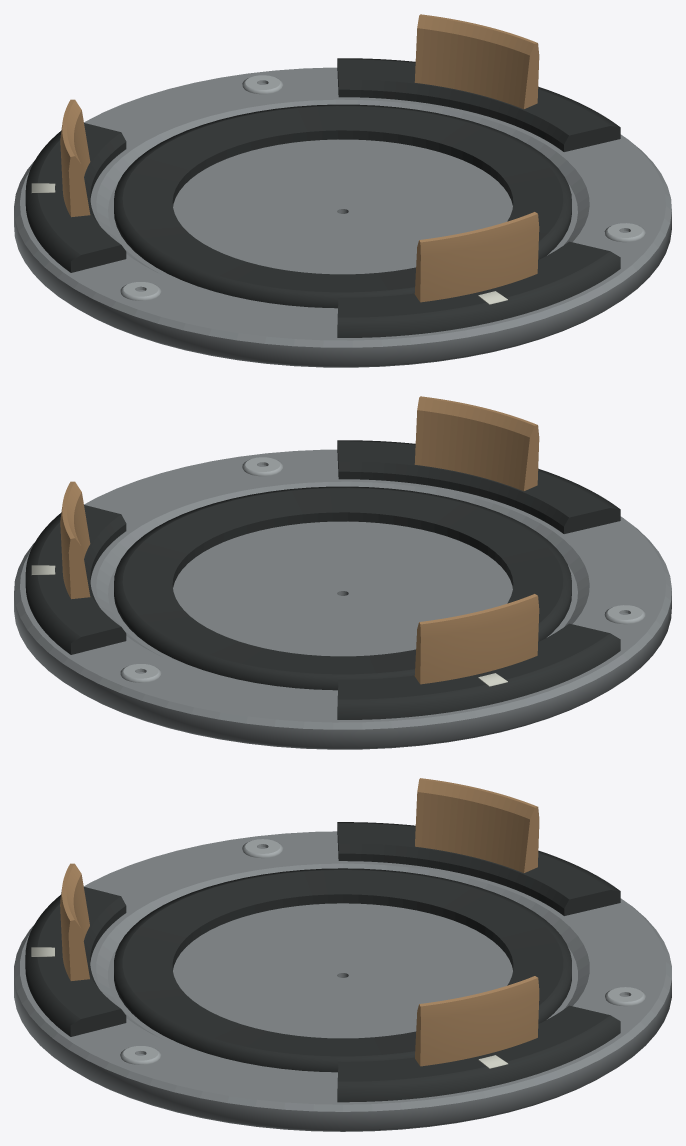
Rendered from VesselCradle.glb.
3 views of the same model, one above another, from view 1: azimuth 30°, elevation 25°; view 2: azimuth 150°, elevation 25°; view 3: azimuth 270°, elevation 25° (orthographic).
Visible parts, largest first — view 1: Vessel keeper cradle; view 2: Vessel keeper cradle; view 3: Vessel keeper cradle.
Boxes of the visible parts, left/top/right/bottom form: Vessel keeper cradle: left=14, top=14, right=671, bottom=367; Vessel keeper cradle: left=14, top=396, right=671, bottom=749; Vessel keeper cradle: left=14, top=778, right=671, bottom=1131.
Size of the model in its own units: 0.112 by 0.0194 by 0.1119.
